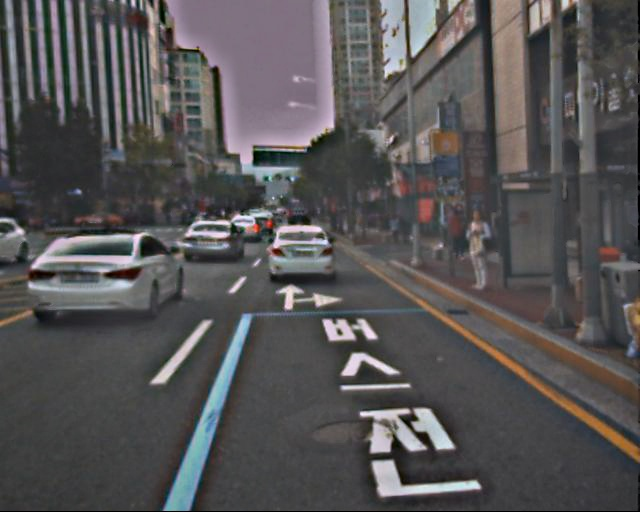person: (460, 207, 495, 293), (447, 206, 469, 259), (390, 210, 413, 244)
